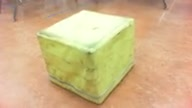cube: (36, 9, 134, 105)
